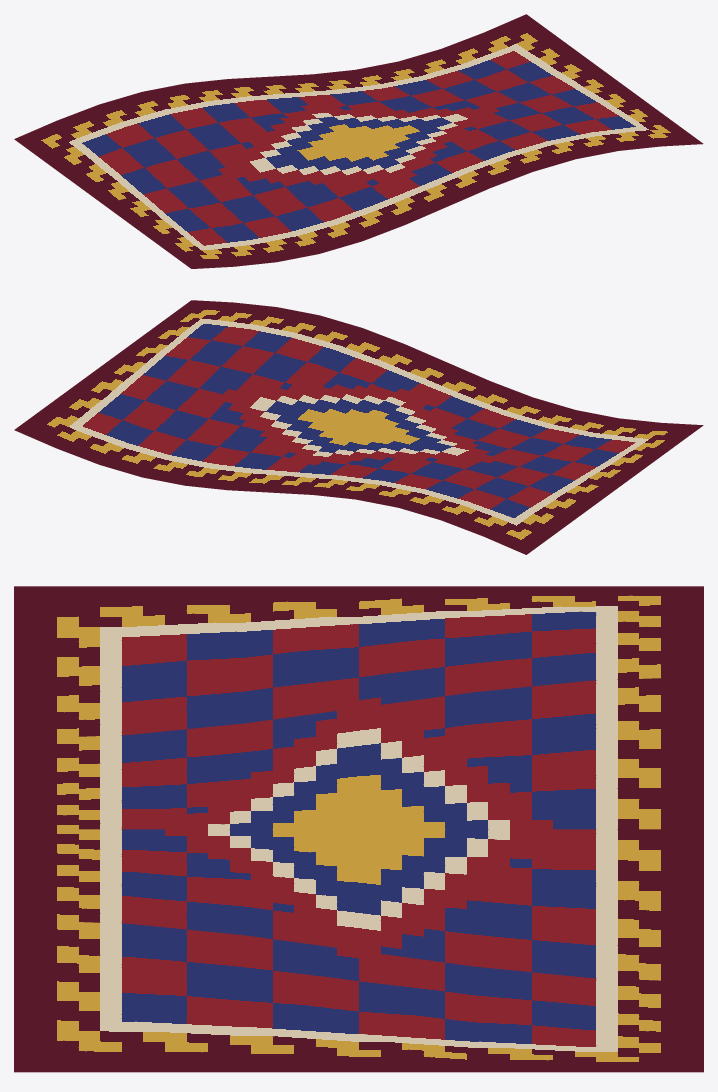
Rendered from carpet.glb.
The picture shows the model from 3 angles, top to bottom: view 1: azimuth 30°, elevation 25°; view 2: azimuth 150°, elevation 25°; view 3: azimuth 270°, elevation 25°; orthographic projection. The views are drawn at different scales.
Parts seen in each view (by area): view 1: carpet; view 2: carpet; view 3: carpet.
Boxes of the visible parts, x1,y1,x2,y2 form: carpet: [14, 14, 703, 268]; carpet: [14, 300, 703, 554]; carpet: [14, 586, 703, 1072].
Size of the model in its own units: 2 by 0.13 by 1.2.
1 material, 1 textured.
